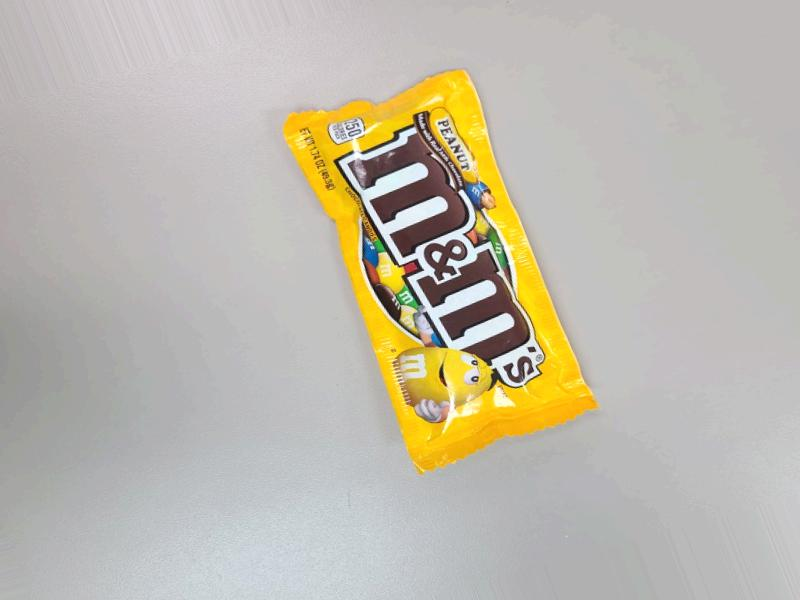m&m: (295, 75, 600, 471)
